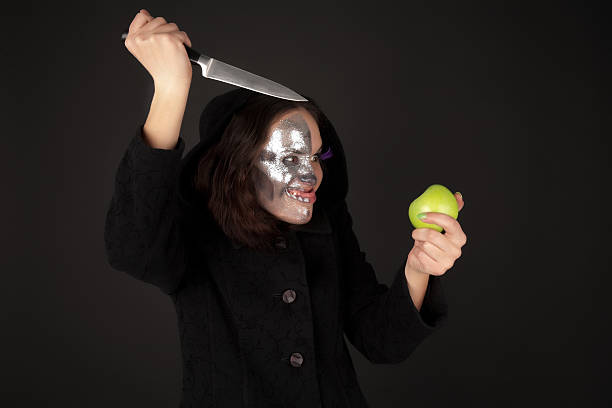knife: (181, 41, 310, 103)
